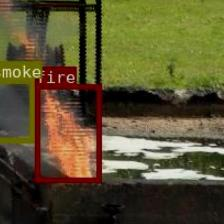fire: (34, 84, 100, 181)
smoke: (0, 78, 33, 141)
